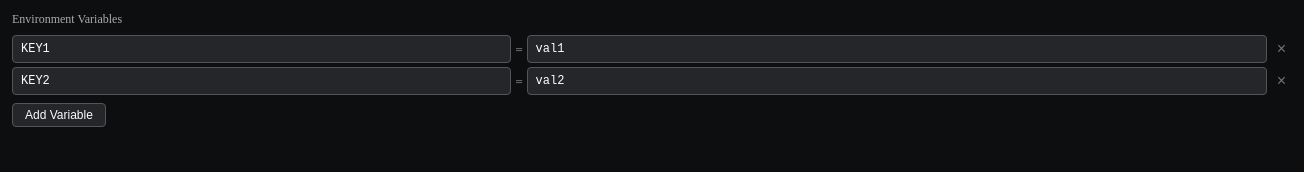
Test: EnvVarEditor › should remove a row when delete button is clicked
Click the 1st button with test id "env-delete" at [1281, 49], box [1271,39,1292,59]
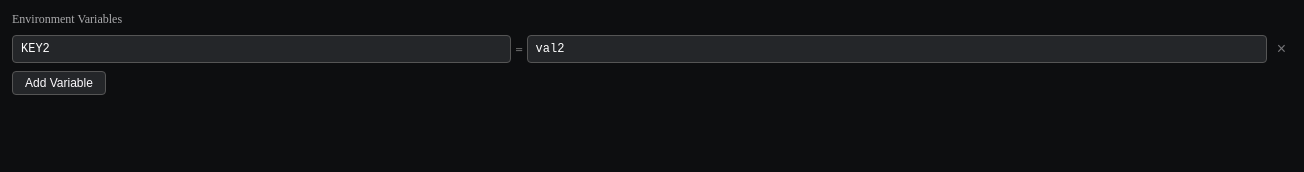
expect the number of fields with test id "env-key" is 1: met, box [12,35,511,63]
